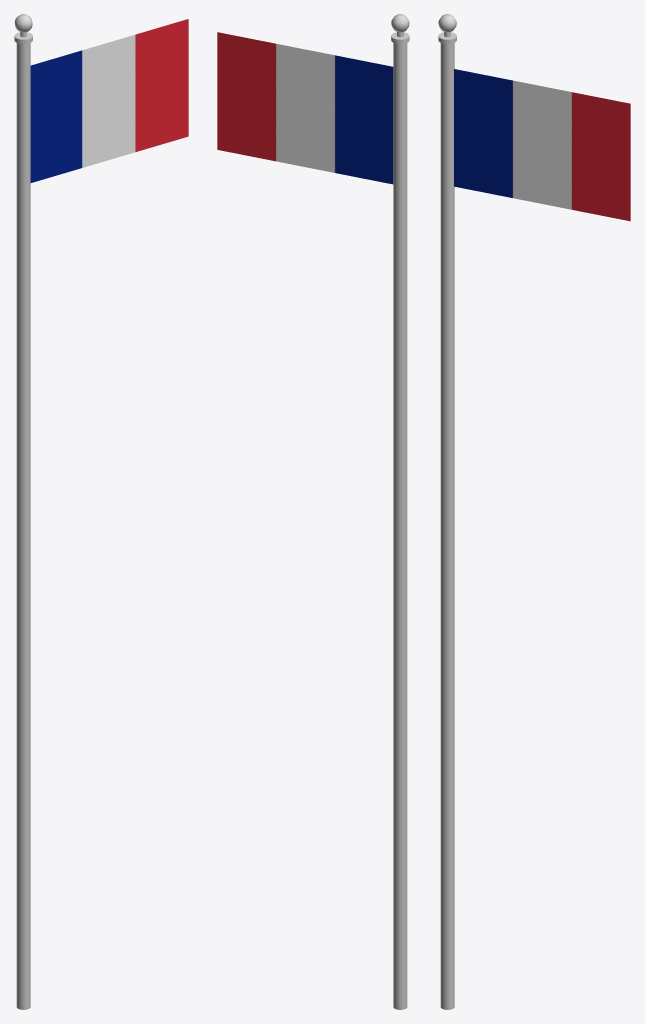
File: FlagCountry_.fbx
3 renders of one model, left to right at view 1: azimuth 30°, elevation 25°; view 2: azimuth 150°, elevation 25°; view 3: azimuth 330°, elevation 25°, orthographic.
Parts seen in each view (by area): view 1: FlagCountry_.018; view 2: FlagCountry_.018; view 3: FlagCountry_.018.
Part boxes in pixels (x1,y1,x2,y2): FlagCountry_.018: (14,14,188,1009); FlagCountry_.018: (217,14,409,1009); FlagCountry_.018: (438,14,630,1009).
Size of the model in its own units: 4.53 by 23.6 by 0.5914.
Materials: 2 (1 with a texture image).
